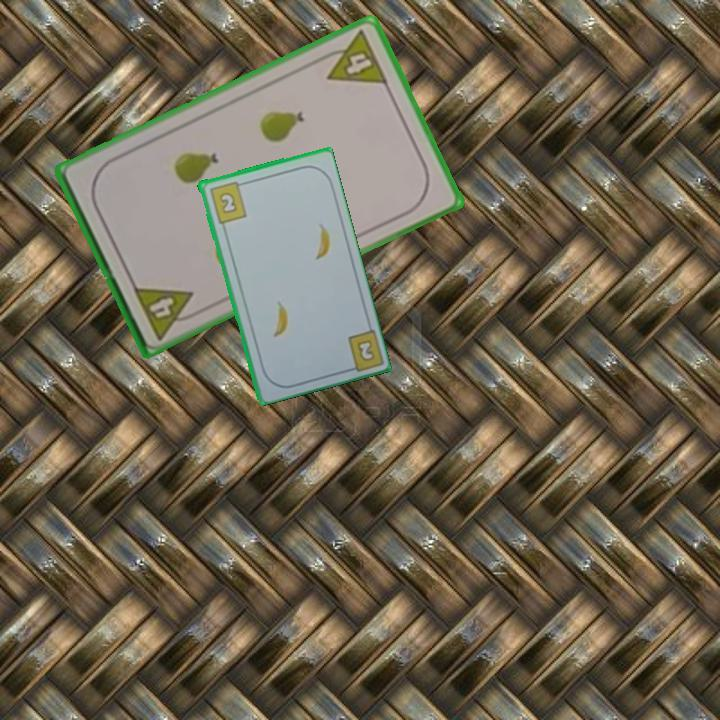2b: (206, 178, 249, 226), (353, 336, 377, 364)
4p: (315, 26, 391, 87), (129, 282, 203, 343)
